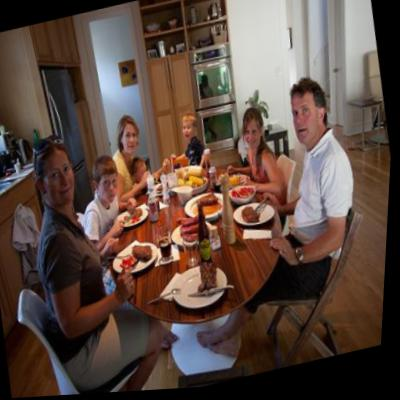happy: (46, 150, 80, 205), (243, 118, 265, 154), (183, 122, 196, 143)
netural: (120, 121, 141, 156)
surprise: (289, 96, 324, 150), (98, 169, 122, 209)
